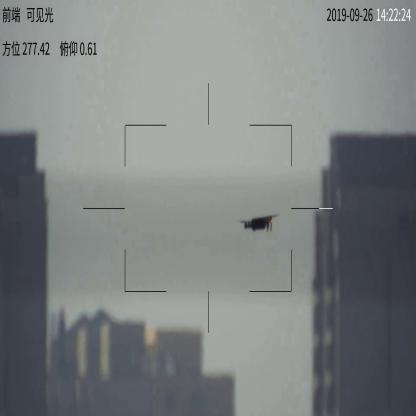uav: (238, 210, 277, 231)
